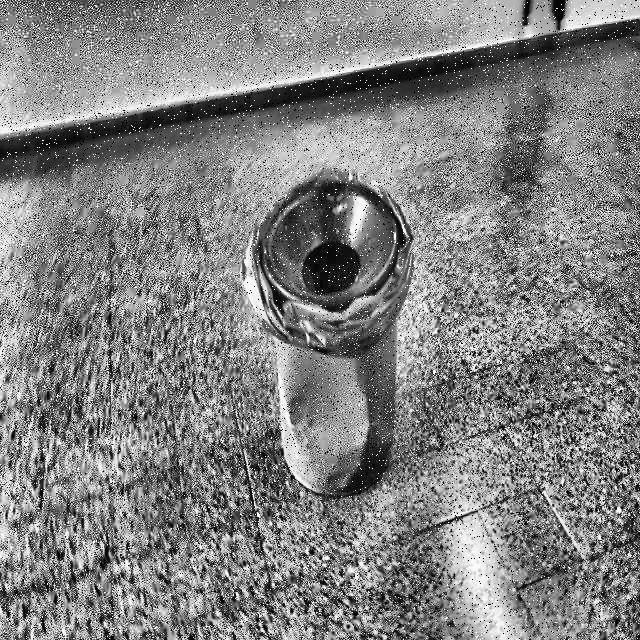Dustbin: (213, 133, 437, 514)
